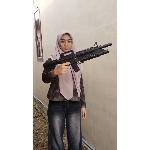Senapan: (37, 39, 117, 78)
